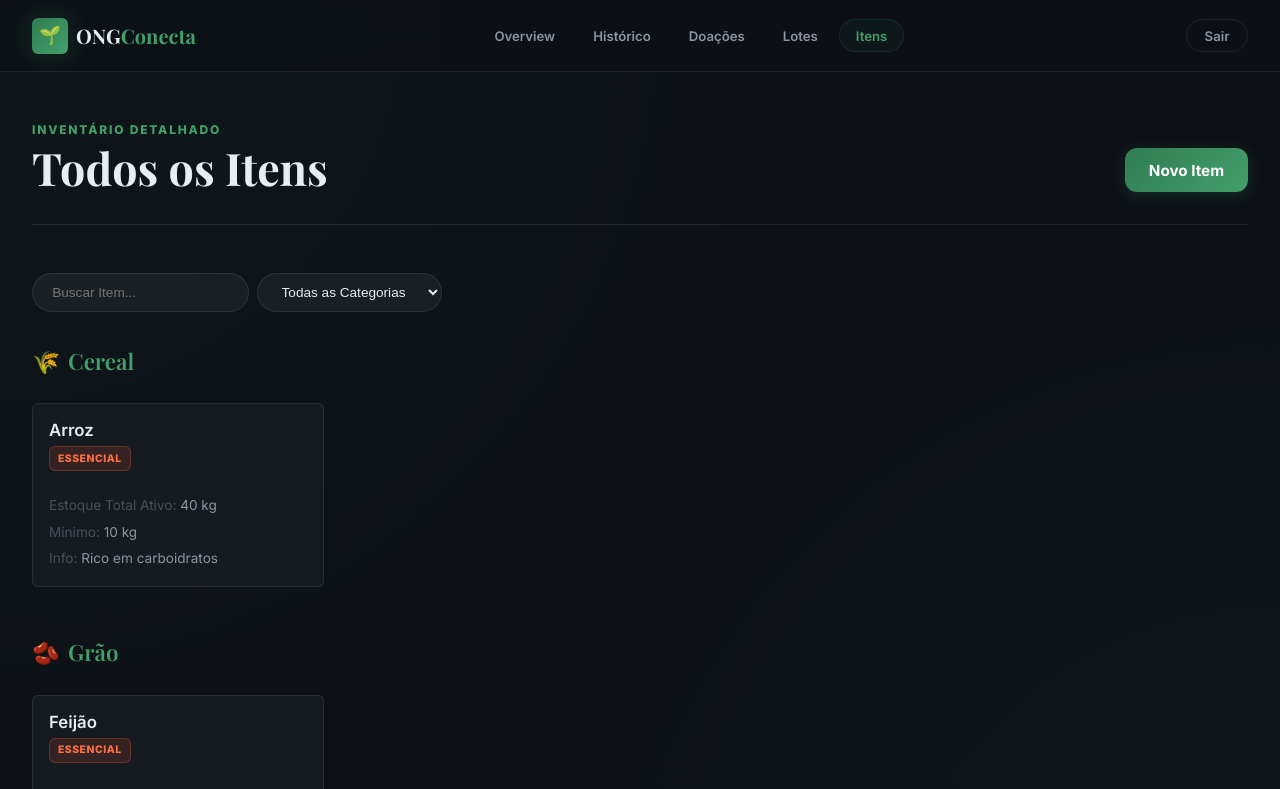
Test: ItemsPage — modal de novo item › fecha o modal ao clicar no botão de fechar (×)
The width and height of the screenshot is (1280, 789).
Expected: the heading "Arroz" is shown, [49,420,94,440]
Click the button "Novo Item": coordinates (1186, 170) [1125,148,1248,192]
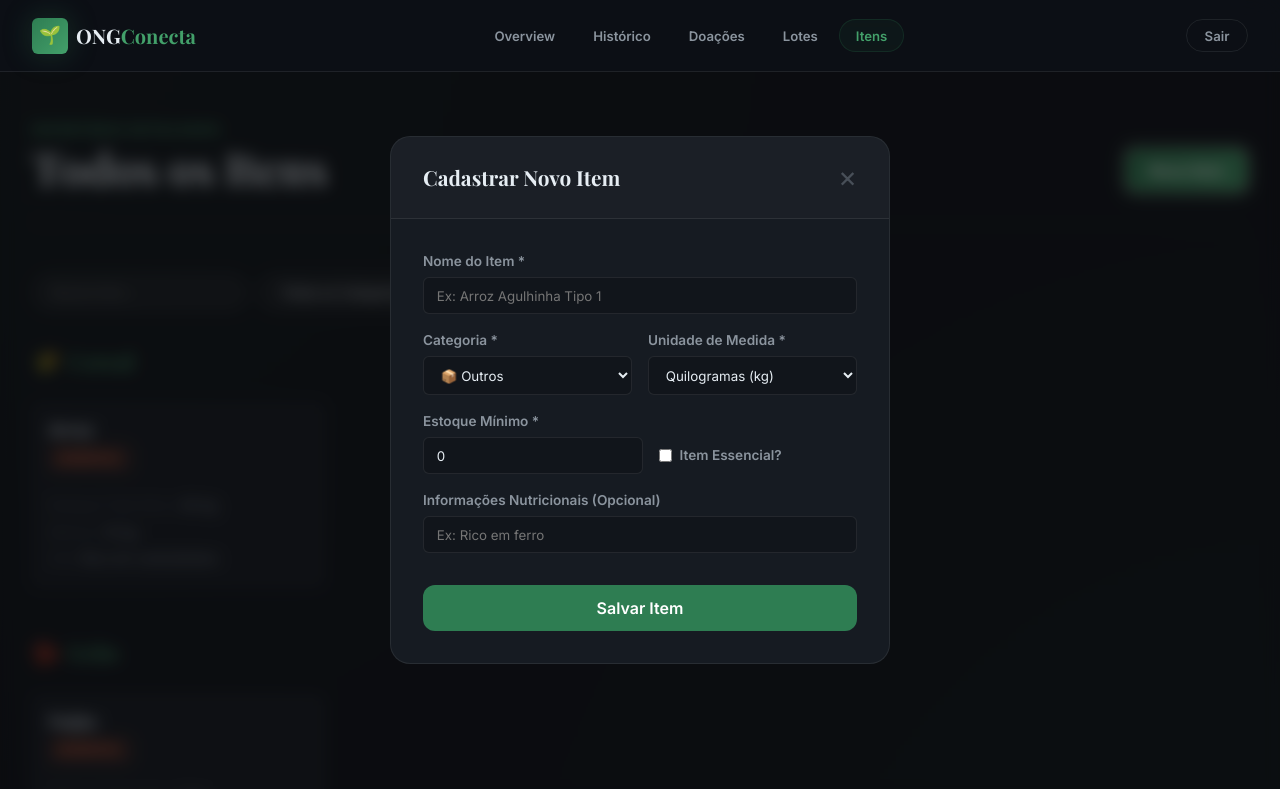
Note: Fecha pelo botão ×
Click the button named "cerrar modal": coordinates (847, 178) [838,163,857,192]
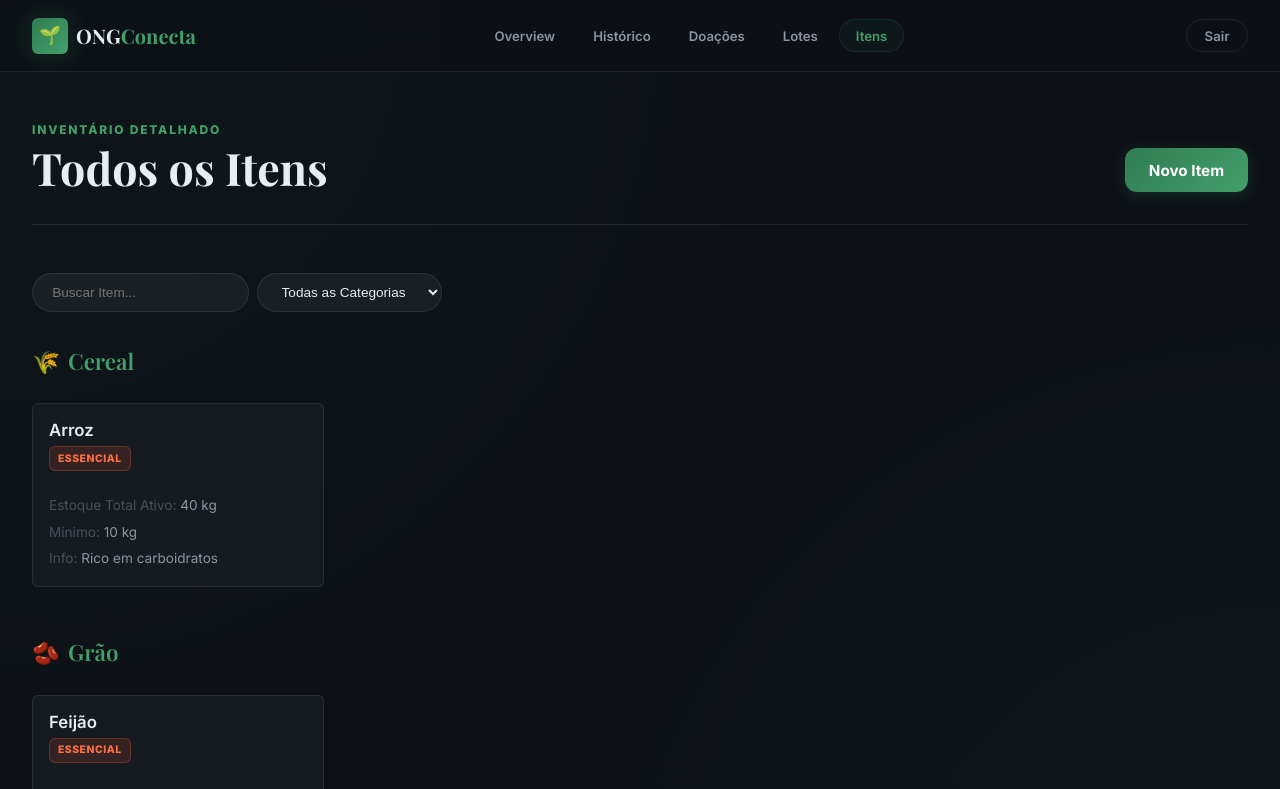
Result: the heading "Cadastrar Novo Item" is gone
